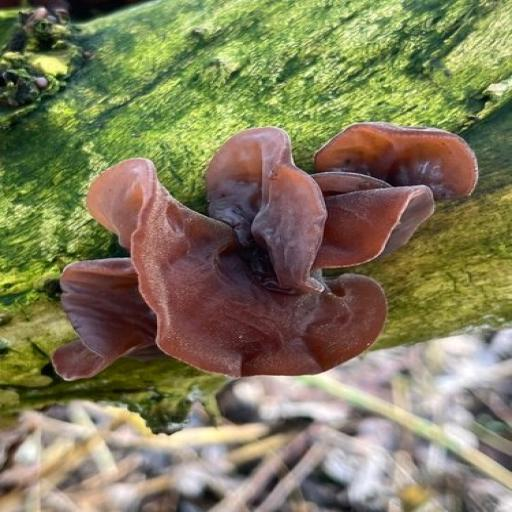mushroom: (55, 119, 486, 381)
